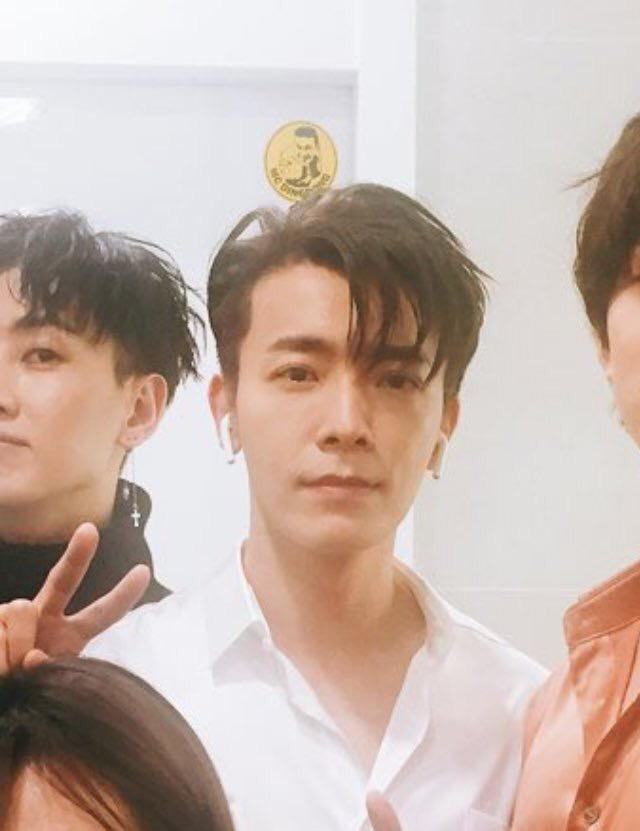earphone: (210, 407, 249, 470), (425, 422, 451, 479)
